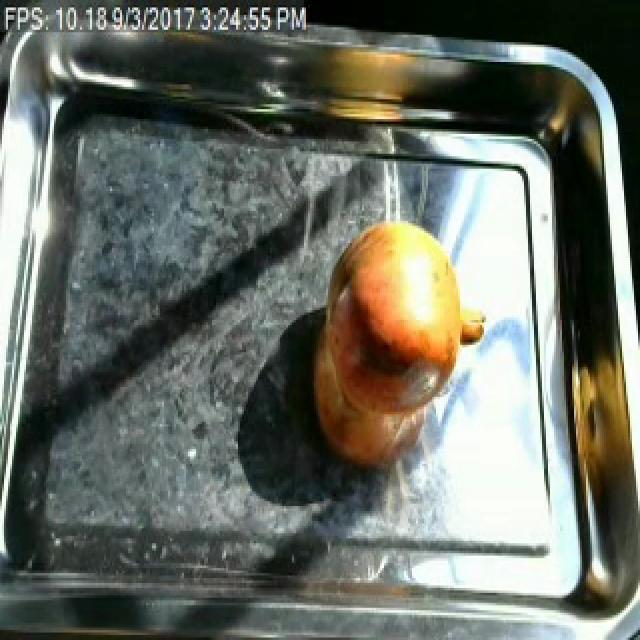fruit: (316, 203, 502, 439)
